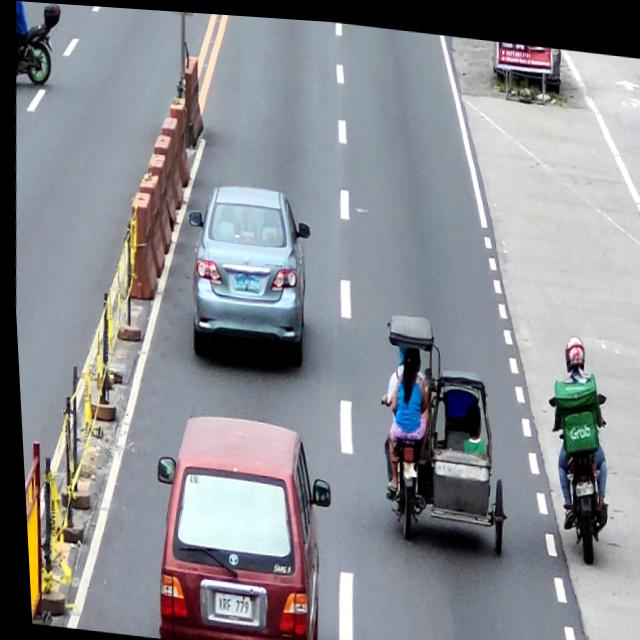Car: (142, 406, 335, 640), (178, 175, 316, 372)
License-Plate: (208, 590, 247, 618), (229, 271, 258, 290), (569, 472, 591, 492)
Motorcycle: (537, 376, 610, 558)
Tricycle: (370, 310, 513, 553)
